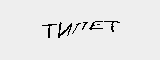Е: (87, 17, 103, 32)
И: (55, 19, 70, 39)
П: (73, 16, 86, 37)
Т: (39, 20, 54, 41), (105, 17, 120, 33)
